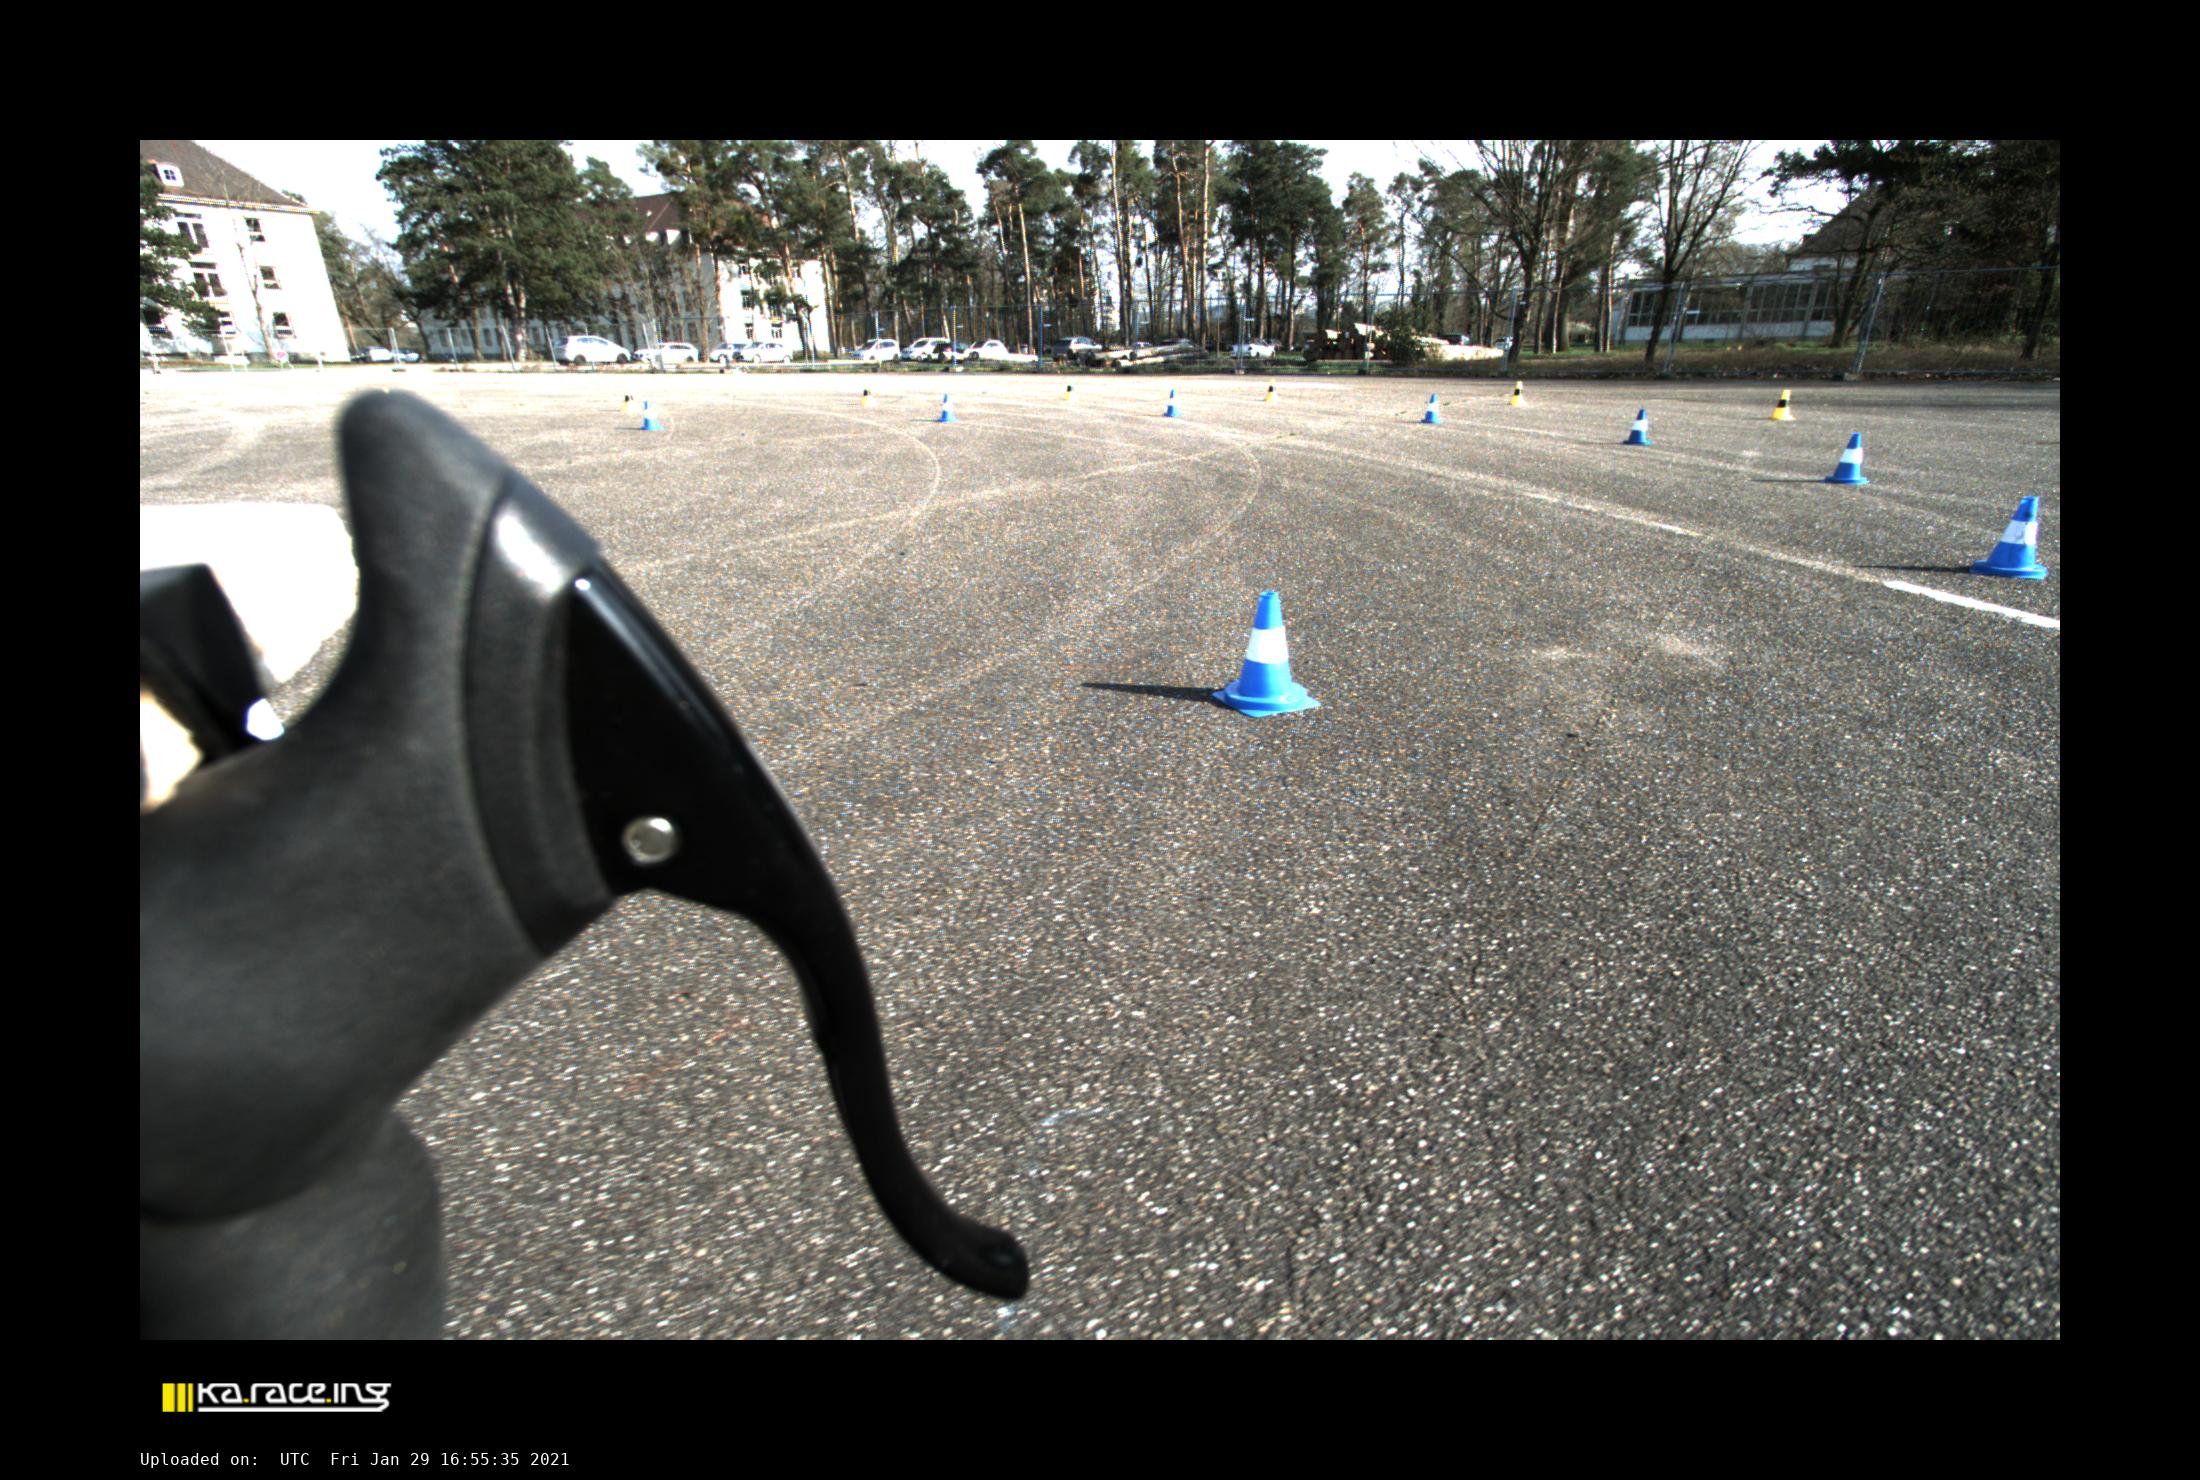blue_cone: (1212, 591, 1321, 717), (1969, 496, 2046, 580), (1823, 433, 1870, 486), (1624, 410, 1653, 444), (639, 400, 666, 429), (936, 393, 958, 421), (1422, 393, 1440, 425), (1163, 390, 1183, 416)
yellow_cone: (1772, 390, 1795, 420), (1510, 382, 1526, 406), (1265, 378, 1278, 401), (623, 391, 638, 411), (861, 387, 875, 405), (1064, 382, 1075, 400)
